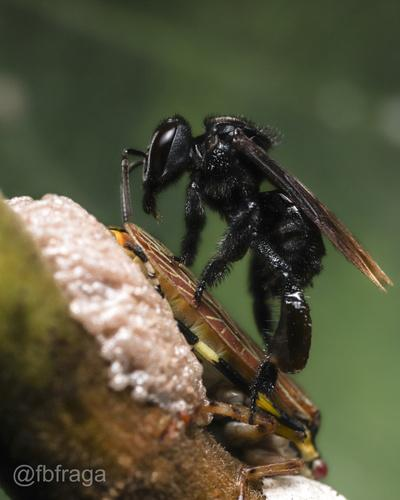Meliponula: (99, 82, 382, 370)
